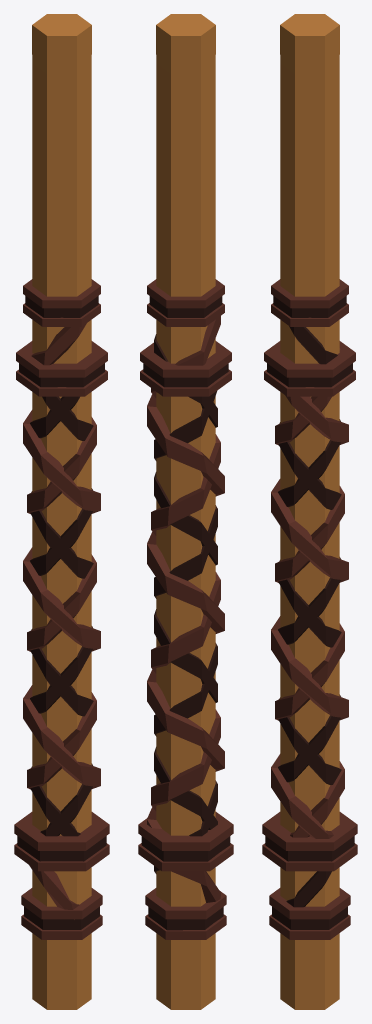
File: Axe_Viking_Handle_Straight.glb
3 renders of one model, left to right at view 1: azimuth 90°, elevation 25°; view 2: azimuth 150°, elevation 25°; view 3: azimuth 270°, elevation 25°, orthographic.
Parts seen in each view (by area): view 1: Axe_Viking_Handle_Straight; view 2: Axe_Viking_Handle_Straight; view 3: Axe_Viking_Handle_Straight.
Part boxes in pixels (x1,y1,x2,y2): Axe_Viking_Handle_Straight: (14, 14, 109, 1009); Axe_Viking_Handle_Straight: (138, 14, 233, 1009); Axe_Viking_Handle_Straight: (262, 14, 357, 1009).
Bounding box in the file's own units: 0.0556 × 0.7218 × 0.0642.
